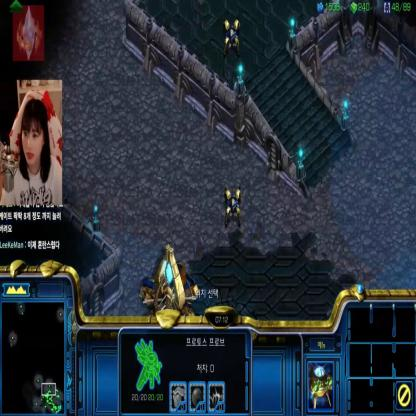streamer: (0, 100, 62, 204)
